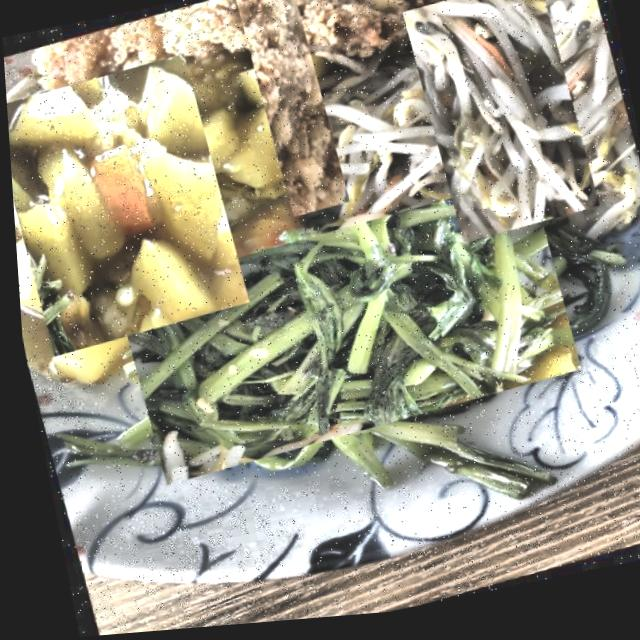Food: (101, 178, 583, 491), (4, 61, 258, 349), (379, 0, 616, 236), (144, 0, 413, 162)
